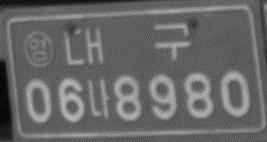0: (219, 69, 252, 118), (25, 77, 52, 123)
6: (57, 77, 87, 123)
8: (112, 74, 143, 122), (184, 71, 214, 119)
9: (149, 73, 179, 119)
나: (86, 79, 111, 120)
대구_D: (62, 22, 192, 67)
영: (22, 31, 56, 68)
